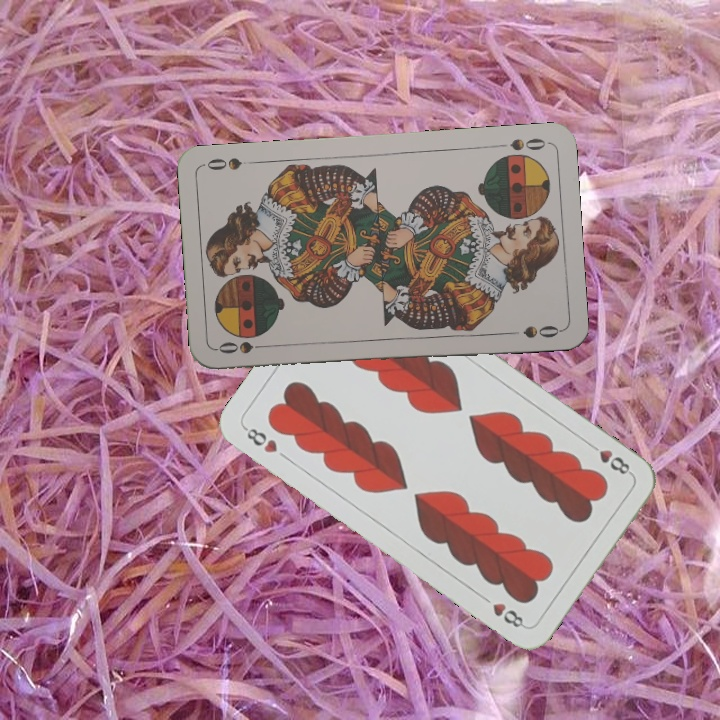H8: (584, 438, 635, 478), (239, 422, 280, 456)
SO: (214, 337, 273, 356), (506, 134, 548, 154)
